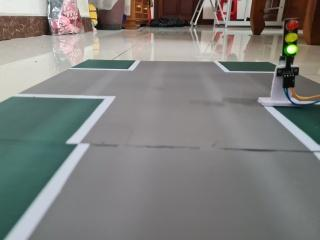green: (275, 15, 302, 69)
